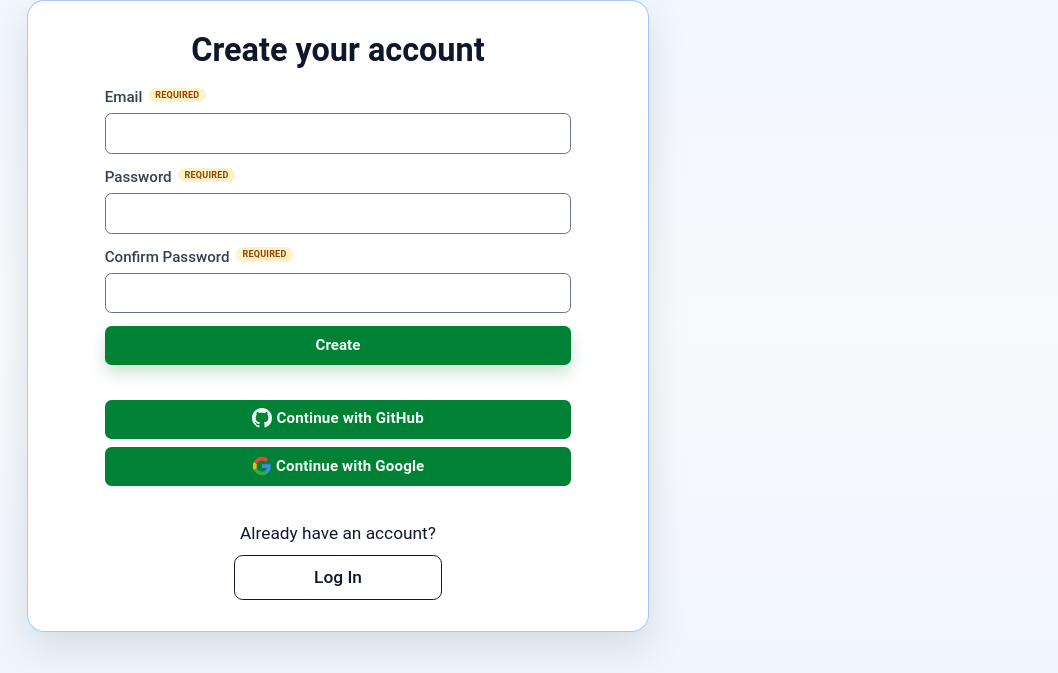
Test: SignUp Form Submit › shows a translated error after clicking Create with an existing email
Type "newemail@mail.com" into the field labelled "Email required".
click(338, 134); type("newemail@mail.com")  # box 105,113 -> 571,154
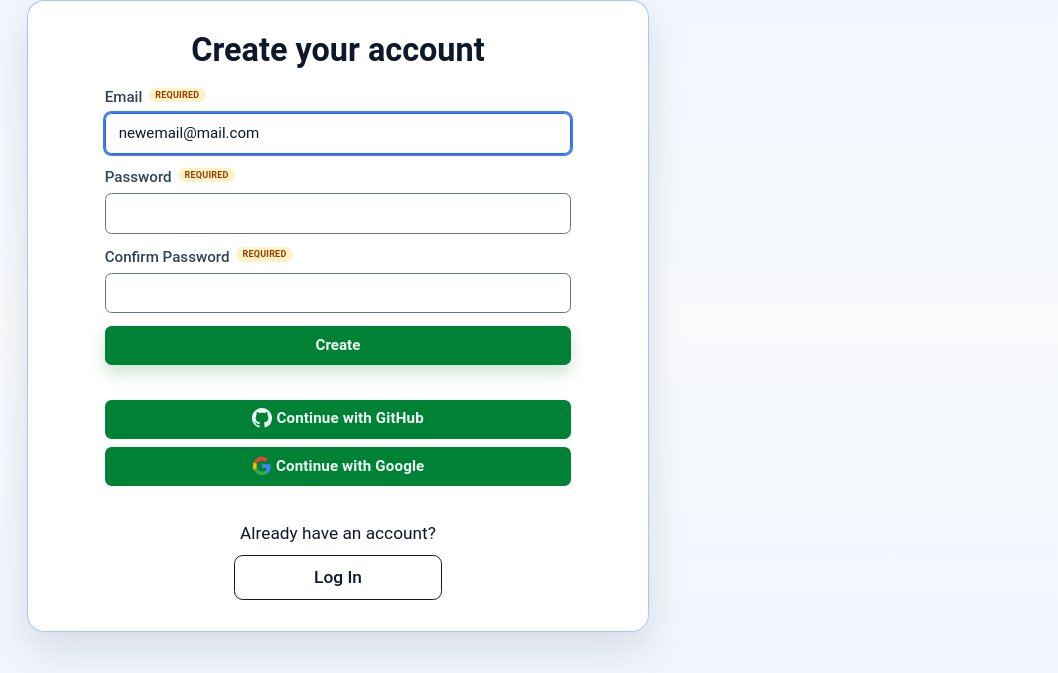
Type "Password123" into the password field labelled "Password required".
click(338, 213); type("Password123")  # box 105,193 -> 571,234
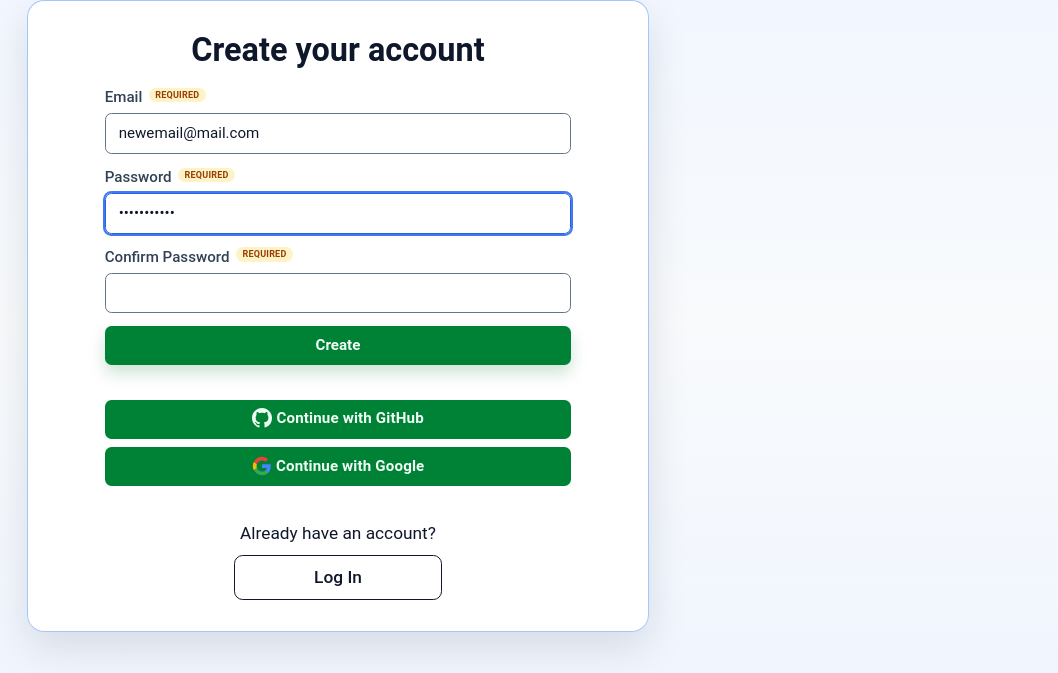
Type "Password123" into the password field labelled "Confirm Password required".
click(338, 293); type("Password123")  # box 105,273 -> 571,313
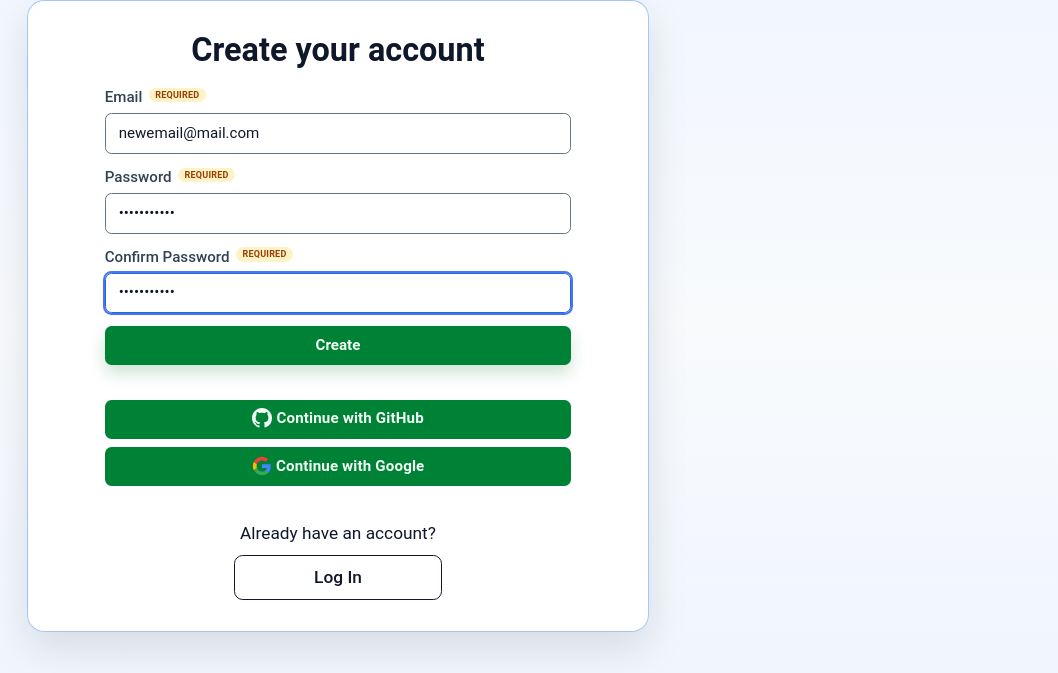
Click the button "Create".
click(338, 346)  # box 105,326 -> 571,365
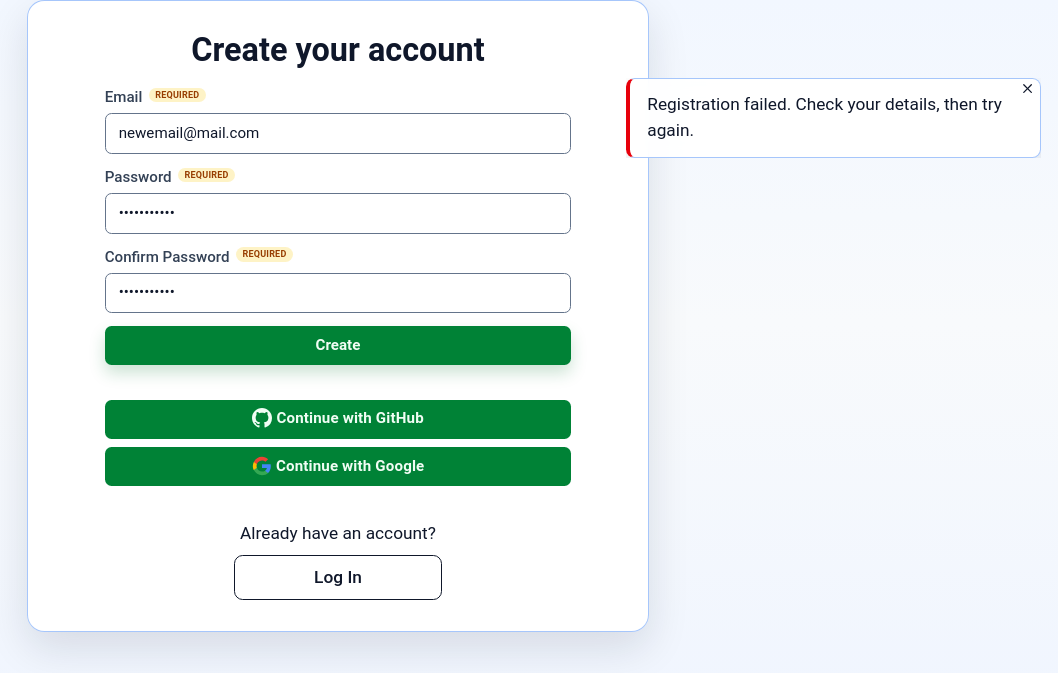
expect the text "Registration failed. Check your details, then try again." is shown: met, box 647,92 -> 1022,144
